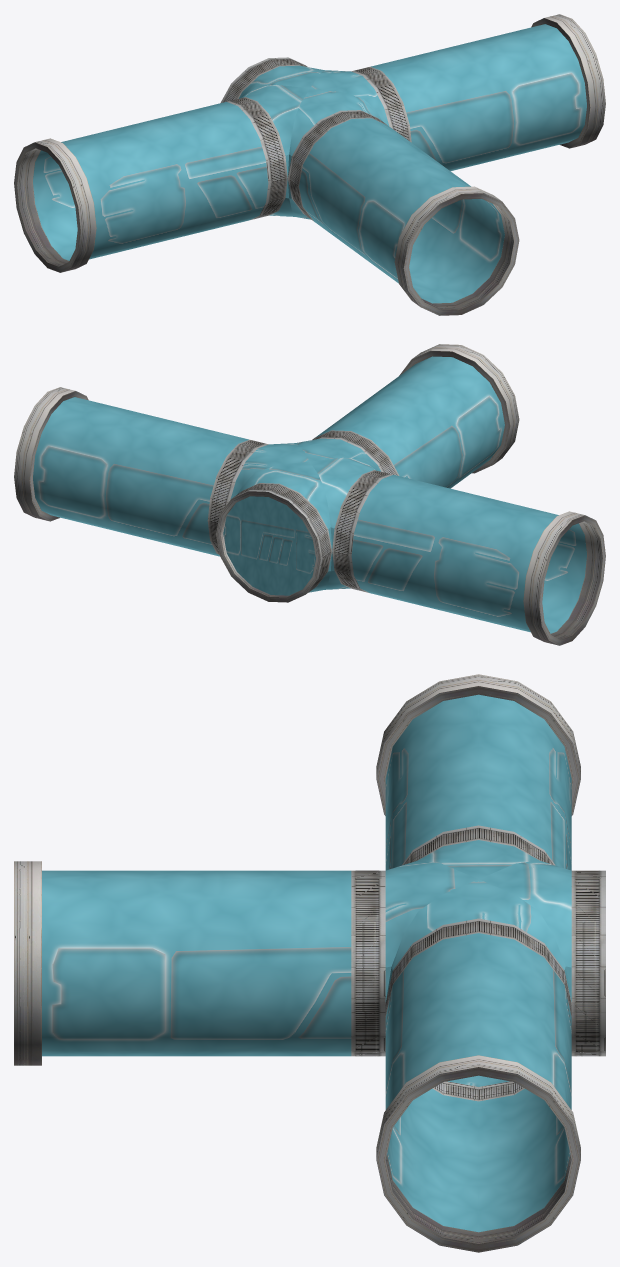
File: XTubeT.DAE
3 renders of one model, top to bottom at view 1: azimuth 30°, elevation 25°; view 2: azimuth 150°, elevation 25°; view 3: azimuth 270°, elevation 25°, orthographic. The views are drawn at different scales.
Parts seen in each view (by area): view 1: ElevatorGlass, HighRiseD; view 2: ElevatorGlass, HighRiseD; view 3: ElevatorGlass, HighRiseD.
Boxes of the visible parts, bbox=[...] form: ElevatorGlass: bbox=[33, 24, 586, 303]; HighRiseD: bbox=[14, 14, 605, 315]; ElevatorGlass: bbox=[33, 356, 586, 633]; HighRiseD: bbox=[14, 344, 605, 645]; ElevatorGlass: bbox=[42, 694, 571, 1232]; HighRiseD: bbox=[14, 674, 605, 1252].
Bounding box in the file's own units: 20 × 12.74 × 4.41.
